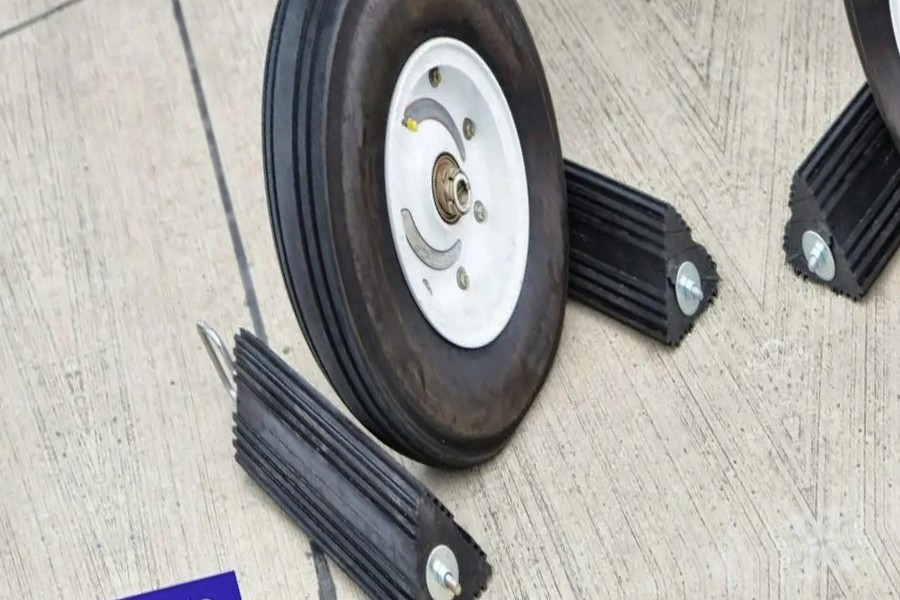chock: (201, 279, 506, 600), (485, 113, 736, 386), (744, 47, 900, 320)
wheel: (203, 0, 633, 497)
